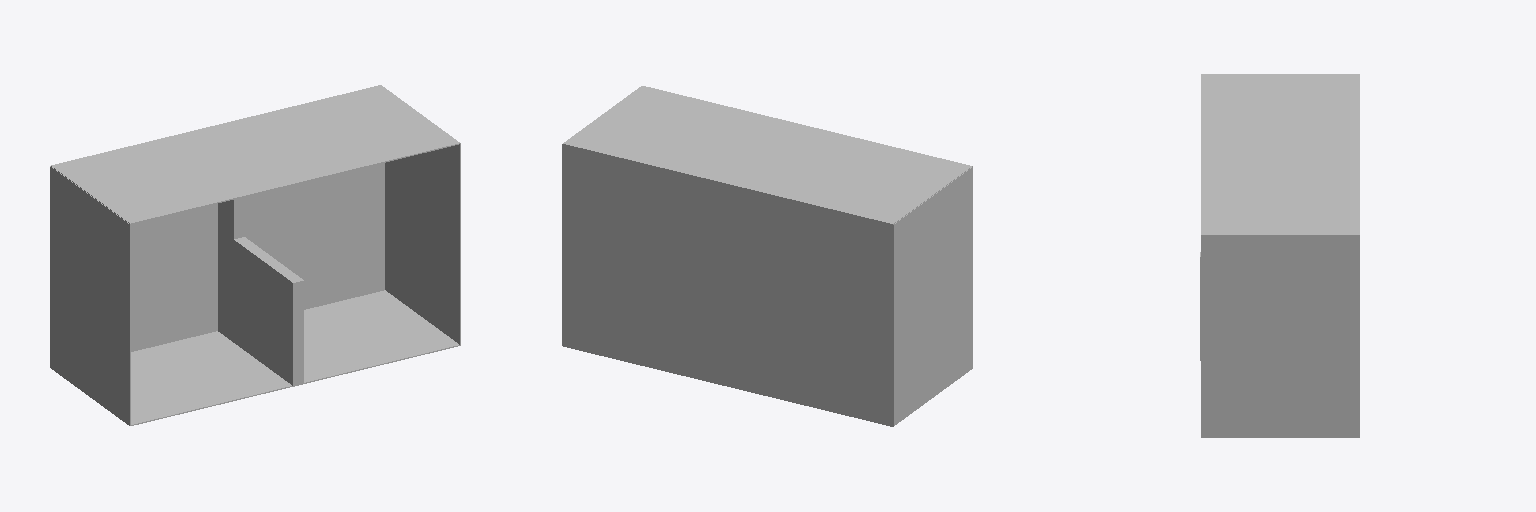
Rendered from LAAS_indoor_test.obj.
3 renders of one model, left to right at view 1: azimuth 30°, elevation 25°; view 2: azimuth 150°, elevation 25°; view 3: azimuth 270°, elevation 25°, orthographic.
Parts seen in each view (by area): view 1: Wall3_Cube.004, Floor_Cube.001, Wall4_Cube.005, Wall2_Cube.003, Wall1_Cube.002, Wall_L.002_Cube.009, Wall_B.001_Cube.008; view 2: Floor_Cube.001, Wall3_Cube.004, Wall2_Cube.003, Wall_L.002_Cube.009; view 3: Wall1_Cube.002, Wall3_Cube.004.
Boxes of the visible parts, x1=… form: Wall3_Cube.004: x1=51, y1=85, x2=460, y2=224; Floor_Cube.001: x1=131, y1=163, x2=384, y2=351; Wall4_Cube.005: x1=64, y1=290, x2=460, y2=425; Wall2_Cube.003: x1=50, y1=166, x2=130, y2=425; Wall1_Cube.002: x1=385, y1=144, x2=460, y2=344; Wall_L.002_Cube.009: x1=218, y1=228, x2=303, y2=386; Wall_B.001_Cube.008: x1=218, y1=197, x2=244, y2=238; Floor_Cube.001: x1=563, y1=145, x2=892, y2=425; Wall3_Cube.004: x1=563, y1=86, x2=972, y2=224; Wall2_Cube.003: x1=893, y1=167, x2=972, y2=426; Wall_L.002_Cube.009: x1=720, y1=281, x2=730, y2=386; Wall1_Cube.002: x1=1201, y1=236, x2=1359, y2=437; Wall3_Cube.004: x1=1201, y1=74, x2=1359, y2=235.
Bounding box in the file's own units: 6.02 × 3.52 × 2.52.